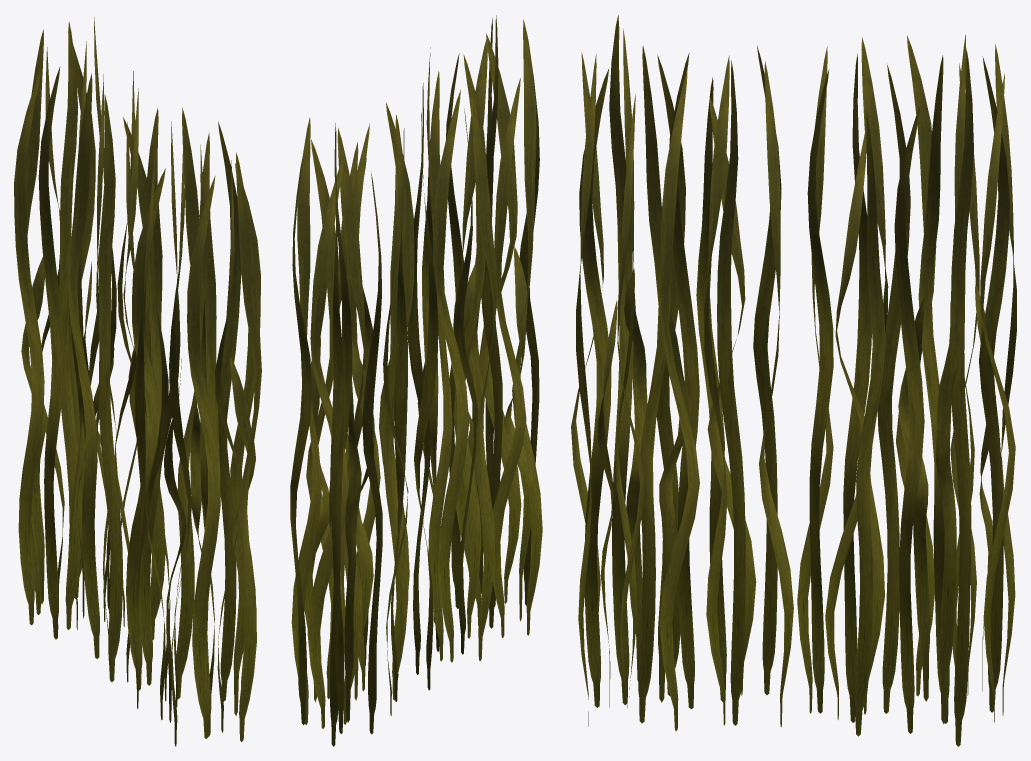
Rendered from dash_weed.glb.
The picture shows the model from 3 angles, left to right: view 1: azimuth 30°, elevation 25°; view 2: azimuth 150°, elevation 25°; view 3: azimuth 270°, elevation 25°; orthographic projection. The views are drawn at different scales.
Visible parts, largest first — view 1: Plane.001; view 2: Plane.001; view 3: Plane.001.
Boxes of the visible parts, x1,y1,x2,y2 form: Plane.001: (14,17,261,746); Plane.001: (290,15,542,746); Plane.001: (571,15,1016,746).
Bounding box in the file's own units: 1.33 × 7.28 × 4.23.
Materials: 1 (1 with a texture image).
